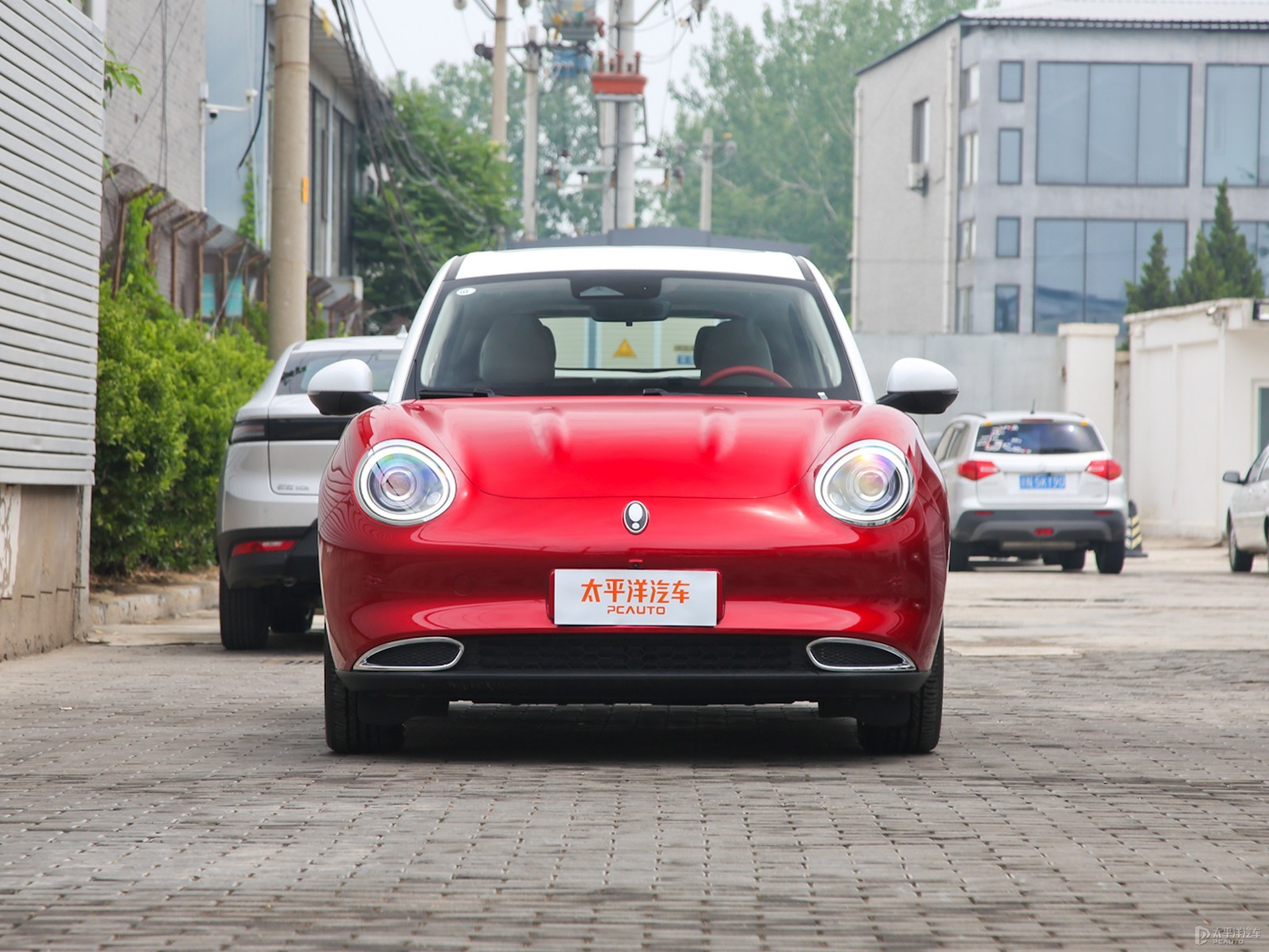ORA: (623, 501, 649, 533)
